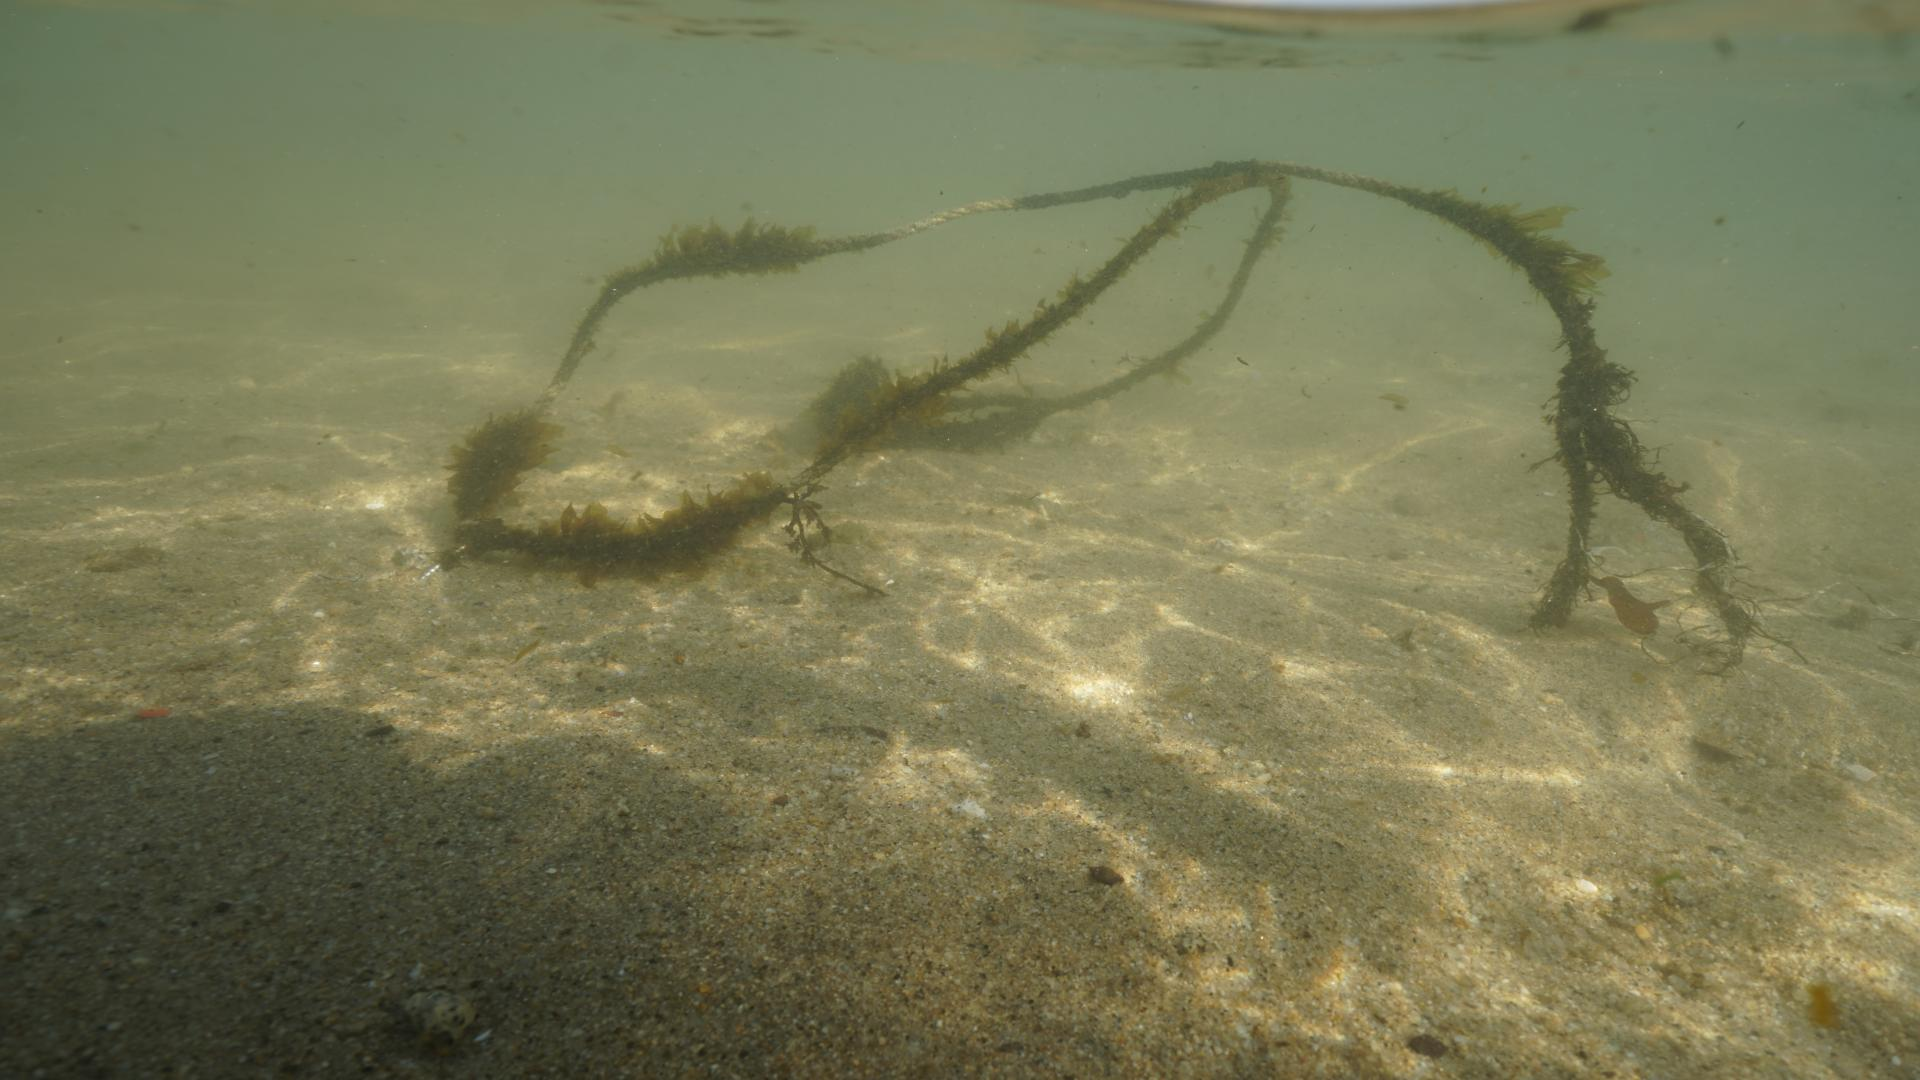bundle of ropes: (535, 154, 1738, 621)
